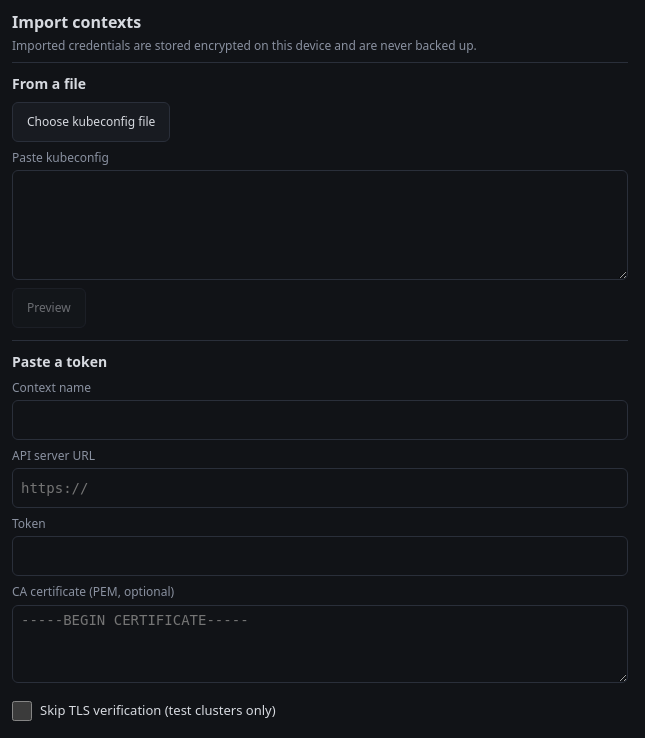
Test: ImportView › disables an exec-plugin candidate and shows why
The image size is (645, 738).
Click the button "Choose kubeconfig file" at (91, 122), box [12, 102, 170, 142]
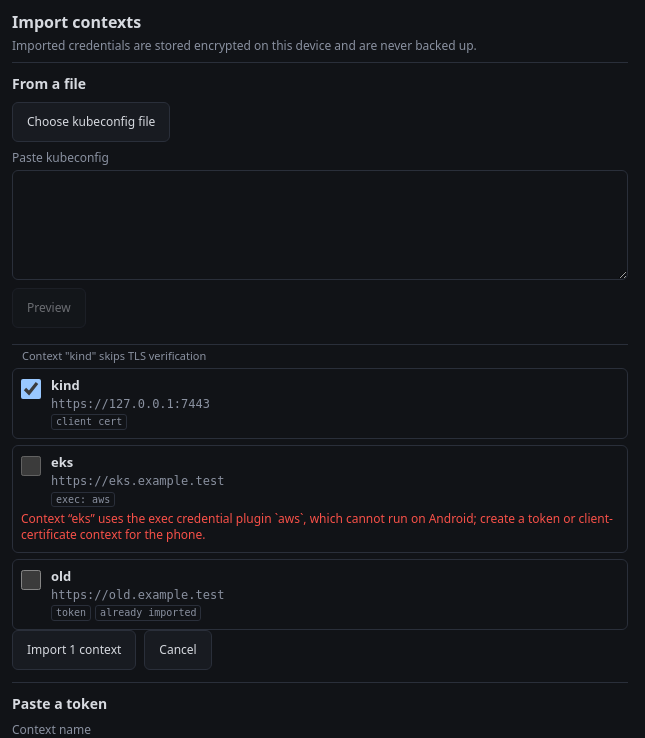
expect the checkbox labelled "eks https://eks.example.test exec: aws" is disabled: met, box [21, 456, 41, 476]
expect the checkbox labelled "eks https://eks.example.test exec: aws" is not checked: met, box [21, 456, 41, 476]
